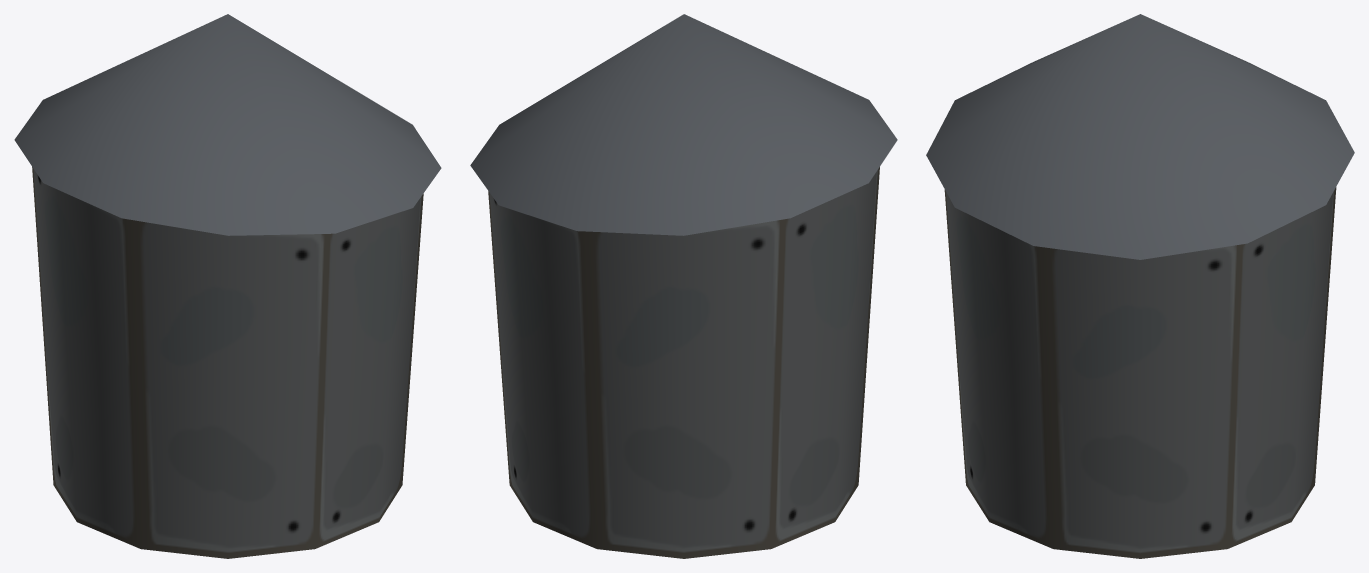
The model's file is WaterTank_A2.fbx.
3 views of the same model, side by side, from view 1: azimuth 30°, elevation 25°; view 2: azimuth 150°, elevation 25°; view 3: azimuth 270°, elevation 25° (orthographic).
Visible parts, largest first — view 1: WaterTank_A2; view 2: WaterTank_A2; view 3: WaterTank_A2.
Part boxes in pixels (left/top/right/bottom): WaterTank_A2: left=14, top=14, right=441, bottom=558; WaterTank_A2: left=470, top=14, right=897, bottom=558; WaterTank_A2: left=926, top=14, right=1354, bottom=558.
Bounding box in the file's own units: 280 × 341 × 281.
1 material, 1 textured.
